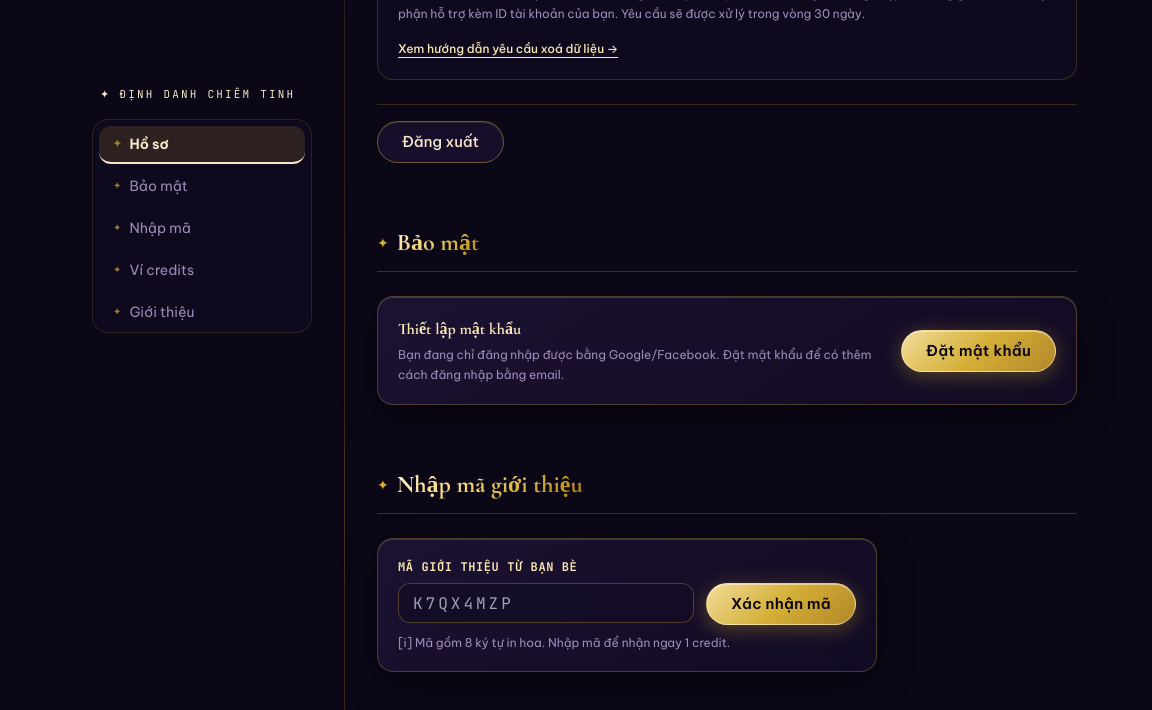
Account Page › Bảo mật Section (#bao-mat) › should show the server message when sending the set-password link fails
(page scrolled)
Step 1. Click the button "Đặt mật khẩu" → click(979, 350), box [901,330,1056,372]
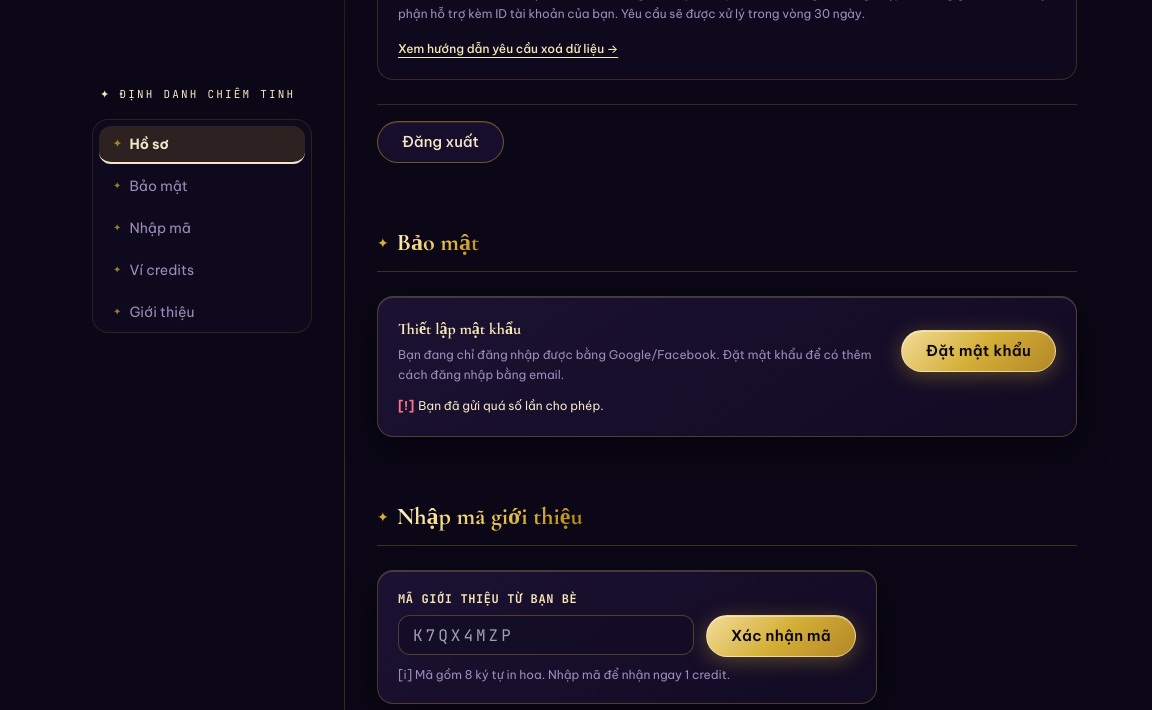
Now the text "Bạn đã gửi quá số lần cho phép." is shown, box [418,398,604,413]
